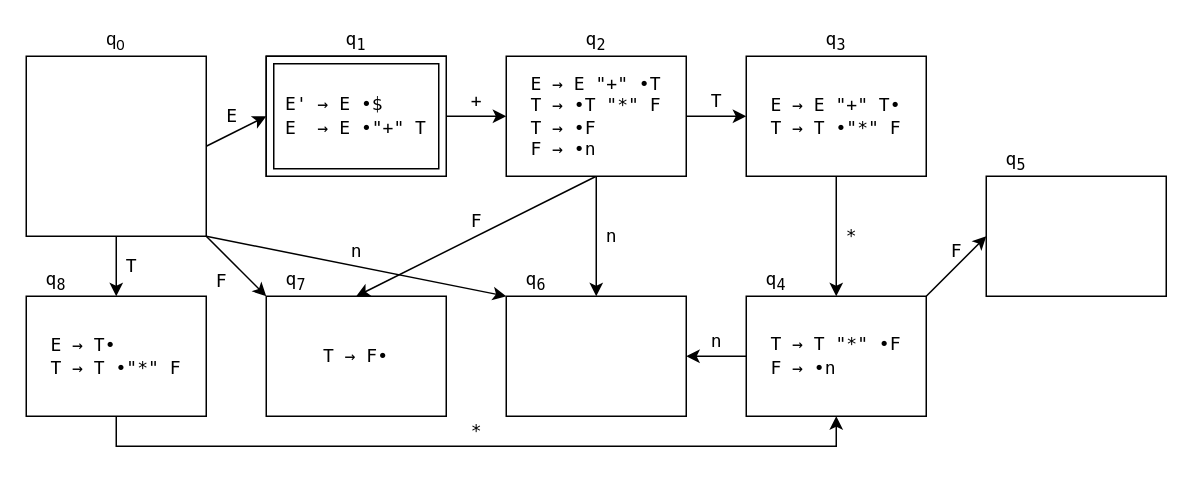
This 1193x485 diagram has some shape labels left out. Each missing label, with the centre of its shape:
E' → •E $ E → •E "+" T E → •T T → •T "*" F T → •F F → •n: pixel 115 145
F → n•: pixel 595 355
T → T "*" F•: pixel 1075 235
